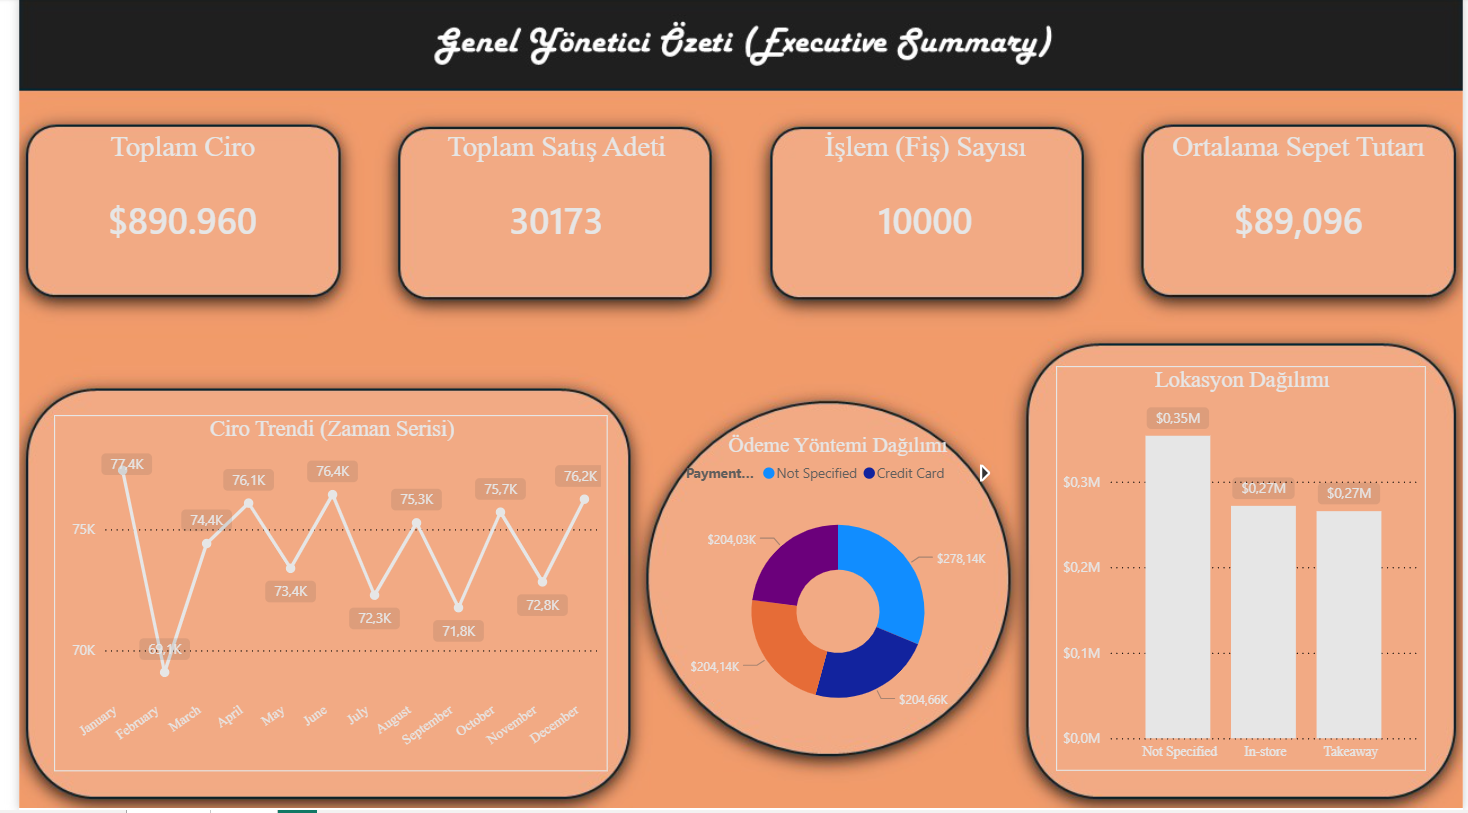

What the dashboard file says about the page in this screenshot:
{"tool":"powerbi","page":{"name":"Yönetici","canvas":[1280,720],"ordinal":0},"visuals":[{"type":"cardVisual","title":"Toplam Ciro","fields":{"Data":["Sum(vW_Cleaned_Cafe_Sales.Total_Spent)"]},"box":[13.6,116.7,263.6,142],"z":0},{"type":"cardVisual","title":"Toplam Satış Adeti","fields":{"Data":["Sum(vW_Cleaned_Cafe_Sales.Quantity)"]},"box":[344.9,117,263.3,141.9],"z":1000},{"type":"cardVisual","title":"İşlem (Fiş) Sayısı","fields":{"Data":["Count(cleaned_cafe_sales.Transaction_ID)"]},"box":[672.1,117,263.3,141.9],"z":2000},{"type":"cardVisual","title":"Ortalama Sepet Tutarı","fields":{"Data":["cleaned_cafe_sales.Sepet"]},"box":[1002.9,117,263.3,141.9],"z":3000},{"type":"lineChart","title":"Ciro Trendi (Zaman Serisi)","fields":{"Y":["Sum(cleaned_cafe_sales.Total_Spent)"],"Category":["cleaned_cafe_sales.Transaction_Date.Variation.Date Hierarchy.Month"]},"box":[31,369.8,491.2,315.7],"z":4000},{"type":"columnChart","title":"Lokasyon Dağılımı","fields":{"Category":["vW_Cleaned_Cafe_Sales.Location"],"Y":["Sum(vW_Cleaned_Cafe_Sales.Total_Spent)"]},"box":[919.5,326.3,328.1,359.1],"z":5000},{"type":"donutChart","title":"Ödeme Yöntemi Dağılımı","fields":{"Category":["vW_Cleaned_Cafe_Sales.Payment_Method"],"Y":["Sum(vW_Cleaned_Cafe_Sales.Total_Spent)"]},"box":[586.1,385.7,280.2,272.2],"z":6000}]}

Visuals, with their boxes in screenshot pixels (x1, y1, x2, y2), scaled from the page's 1280x720 canvas onto the 1468x813 screenshot:
"Toplam Ciro" cardVisual: Rect(16, 132, 318, 292)
"Toplam Satış Adeti" cardVisual: Rect(396, 132, 698, 292)
"İşlem (Fiş) Sayısı" cardVisual: Rect(771, 132, 1073, 292)
"Ortalama Sepet Tutarı" cardVisual: Rect(1150, 132, 1452, 292)
"Ciro Trendi (Zaman Serisi)" lineChart: Rect(36, 418, 599, 774)
"Lokasyon Dağılımı" columnChart: Rect(1055, 368, 1431, 774)
"Ödeme Yöntemi Dağılımı" donutChart: Rect(672, 436, 994, 743)
